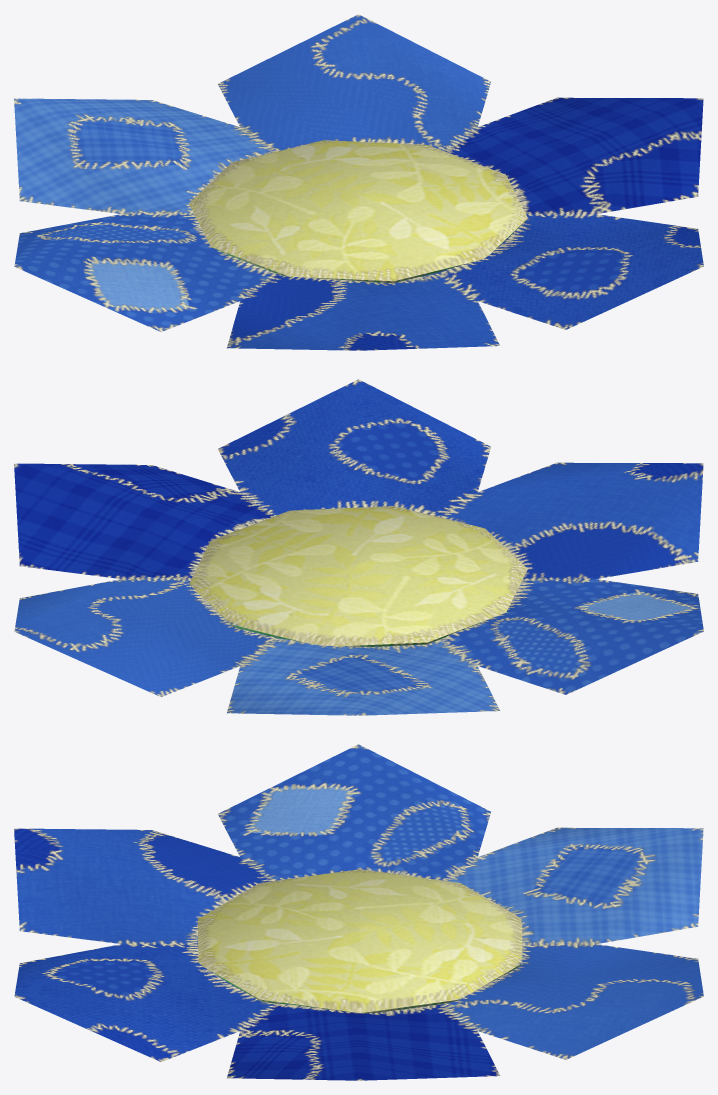
Rendered from flowerOptBud.fbx.
3 views of the same model, one above another, from view 1: azimuth 30°, elevation 25°; view 2: azimuth 150°, elevation 25°; view 3: azimuth 270°, elevation 25° (orthographic).
Parts seen in each view (by area): view 1: flowerOptBud_geo; view 2: flowerOptBud_geo; view 3: flowerOptBud_geo.
Boxes of the visible parts, x1,y1,x2,y2 form: flowerOptBud_geo: [14, 14, 703, 350]; flowerOptBud_geo: [14, 379, 703, 715]; flowerOptBud_geo: [14, 744, 703, 1080].
Bounding box in the file's own units: 932 × 197 × 808.
